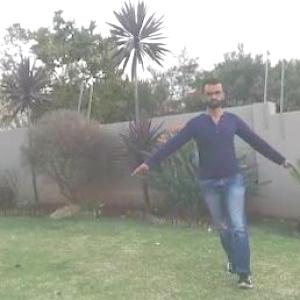land: (132, 82, 276, 258)
